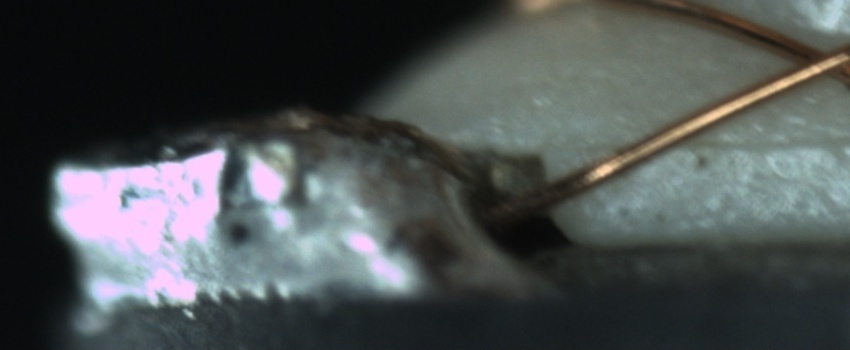CL: (767, 24, 849, 91)
DL: (669, 111, 850, 175)
